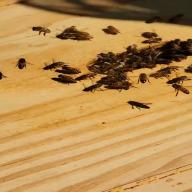Bee: (36, 59, 85, 77), (122, 95, 156, 114), (26, 24, 60, 38), (138, 29, 164, 45), (97, 24, 126, 38), (11, 52, 30, 71), (132, 68, 152, 86), (163, 83, 192, 95)
